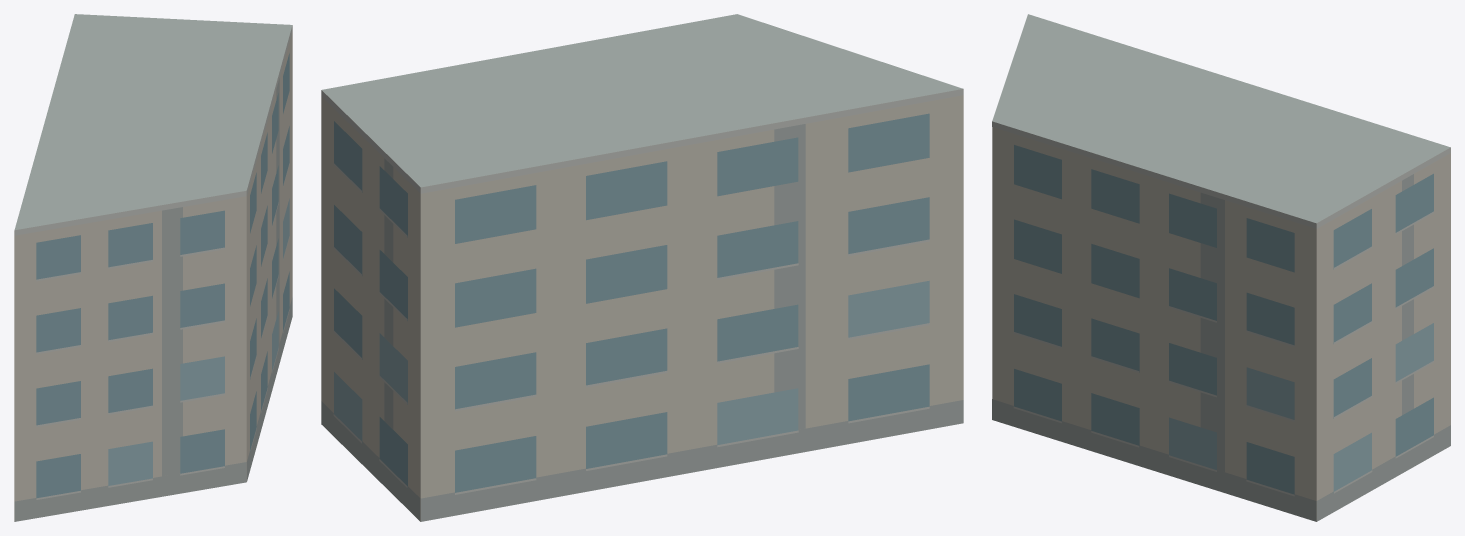
The model's file is residential-74a95344-787e-4393-a98a-7a0e1f70bc77.glb.
3 views of the same model, side by side, from view 1: azimuth 30°, elevation 25°; view 2: azimuth 150°, elevation 25°; view 3: azimuth 270°, elevation 25° (orthographic). The views are drawn at different scales.
Visible parts, largest first — view 1: residential-74a95344-787e-4393-a98a-7a0e1f70bc77.tmp; view 2: residential-74a95344-787e-4393-a98a-7a0e1f70bc77.tmp; view 3: residential-74a95344-787e-4393-a98a-7a0e1f70bc77.tmp.
Part boxes in pixels (box(x1,y1,x2,y2)): residential-74a95344-787e-4393-a98a-7a0e1f70bc77.tmp: box(14, 14, 292, 521); residential-74a95344-787e-4393-a98a-7a0e1f70bc77.tmp: box(321, 14, 963, 521); residential-74a95344-787e-4393-a98a-7a0e1f70bc77.tmp: box(992, 14, 1450, 521).
Size of the model in its own units: 19.56 by 13 by 18.11.
